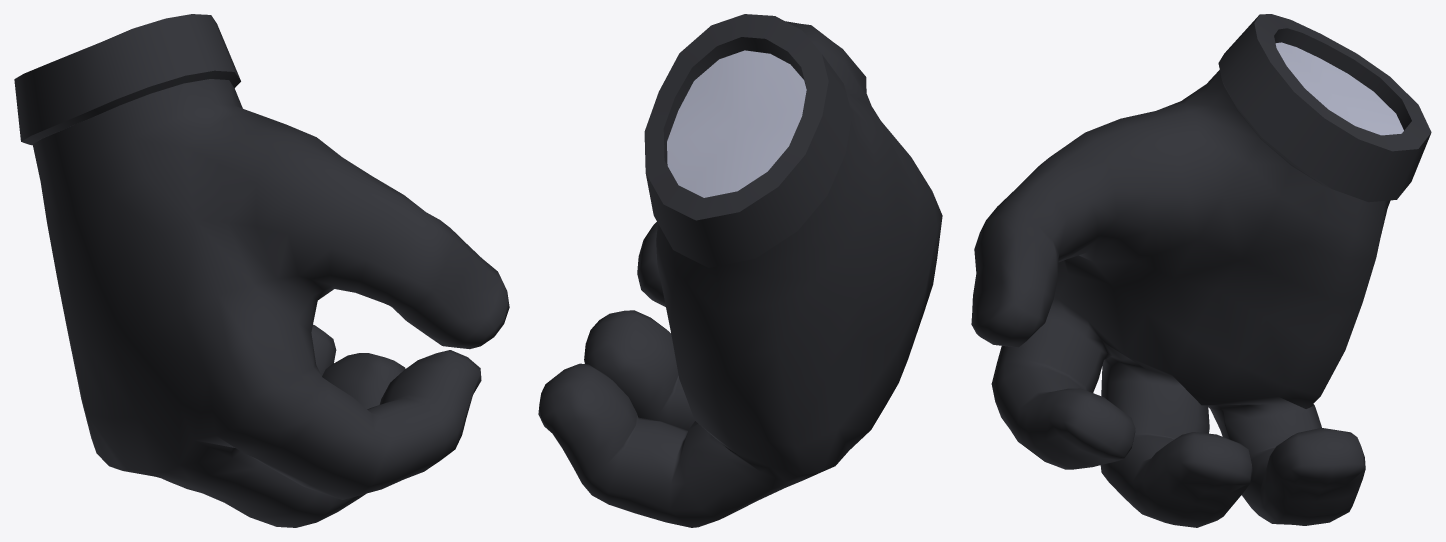
Rendered from hand_basic_grabbing.fbx.
The picture shows the model from 3 angles, left to right: view 1: azimuth 30°, elevation 25°; view 2: azimuth 150°, elevation 25°; view 3: azimuth 270°, elevation 25°; orthographic projection. The views are drawn at different scales.
Visible parts, largest first — view 1: gripping_hand; view 2: gripping_hand; view 3: gripping_hand.
Part boxes in pixels (x1=…): gripping_hand: x1=14, y1=14, x2=509, y2=527; gripping_hand: x1=538, y1=14, x2=942, y2=527; gripping_hand: x1=971, y1=14, x2=1431, y2=527.
Size of the model in its own units: 6.49 by 9.93 by 8.99.
